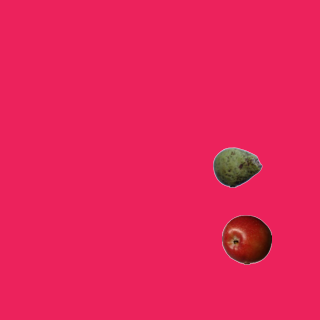Apple Braeburn: (221, 214, 271, 264)
Pear Stone: (212, 142, 262, 192)
